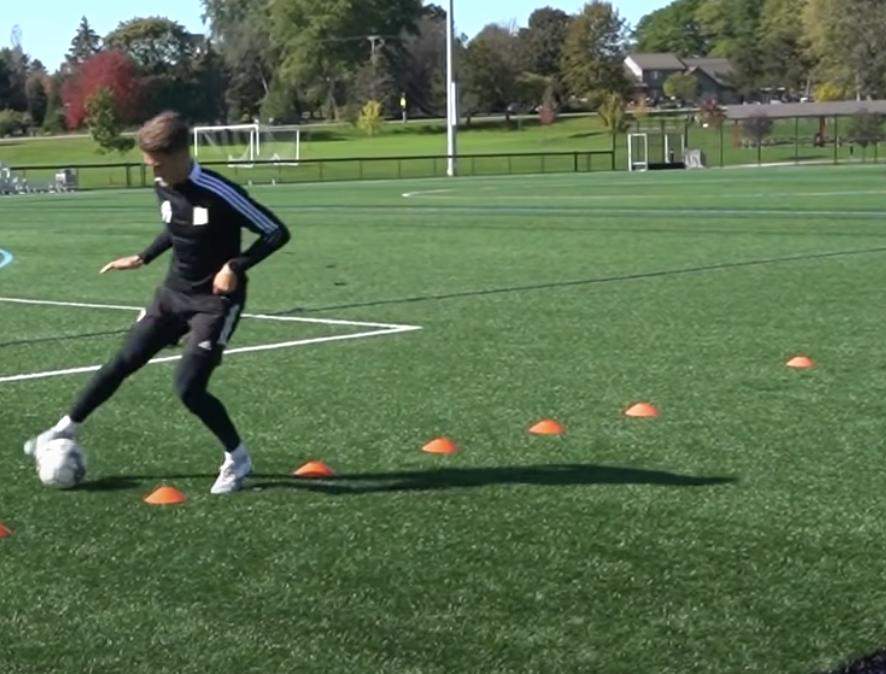ball: (38, 437, 85, 487)
foot: (211, 451, 255, 496)
person: (22, 111, 292, 496)
